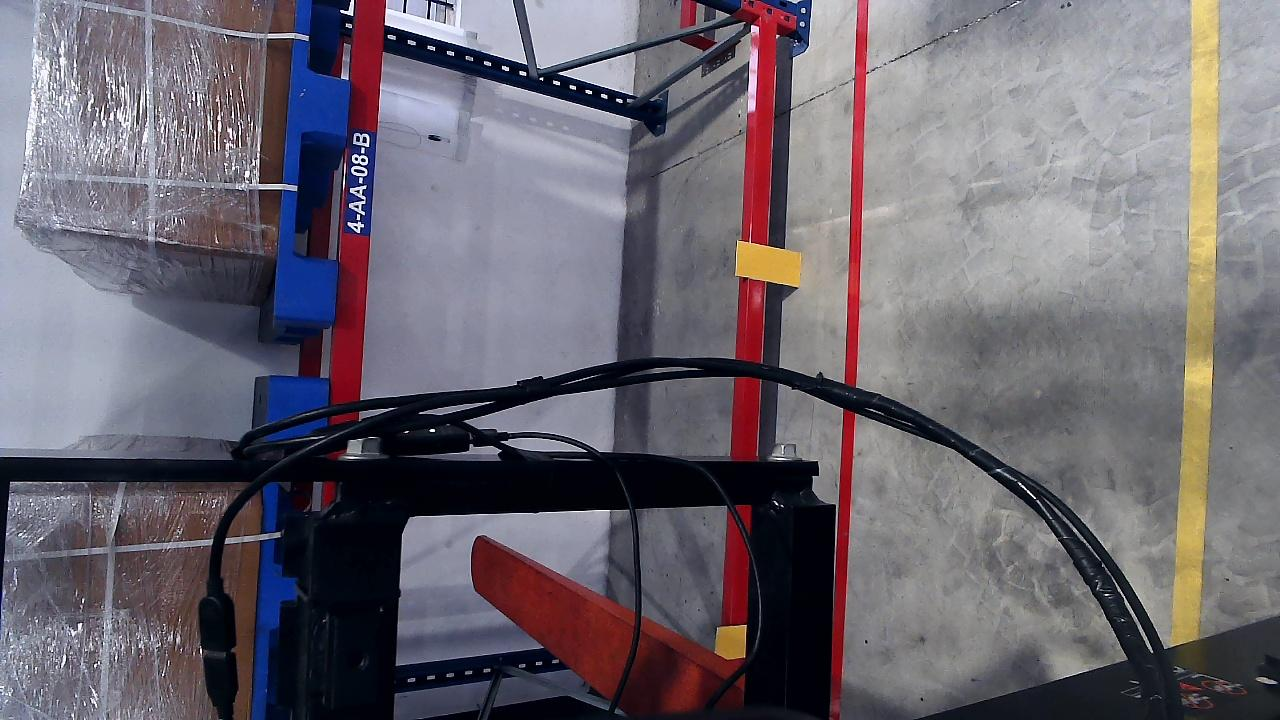h_rack: (329, 0, 390, 407), (742, 16, 780, 354)
orange_strip: (735, 241, 801, 287), (714, 625, 746, 659)
red_line: (843, 3, 868, 383), (827, 373, 858, 679)
small_pallet: (270, 1, 363, 318)
yellow_line: (1170, 65, 1220, 658)
